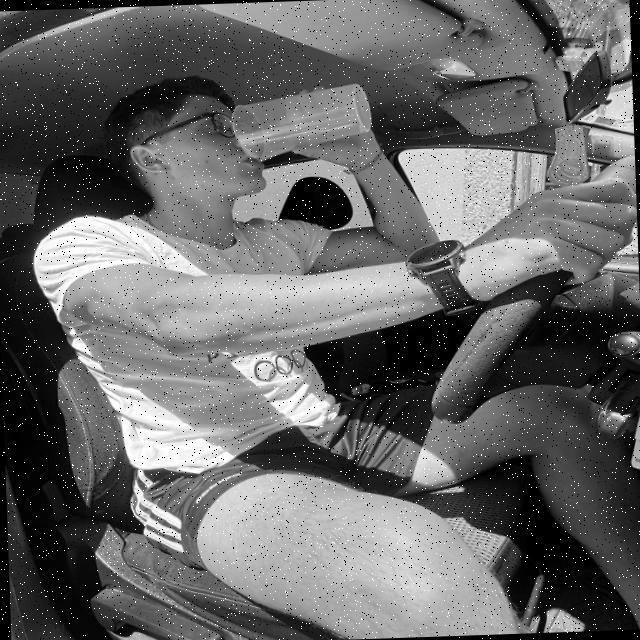Drinking: (209, 62, 399, 184)
